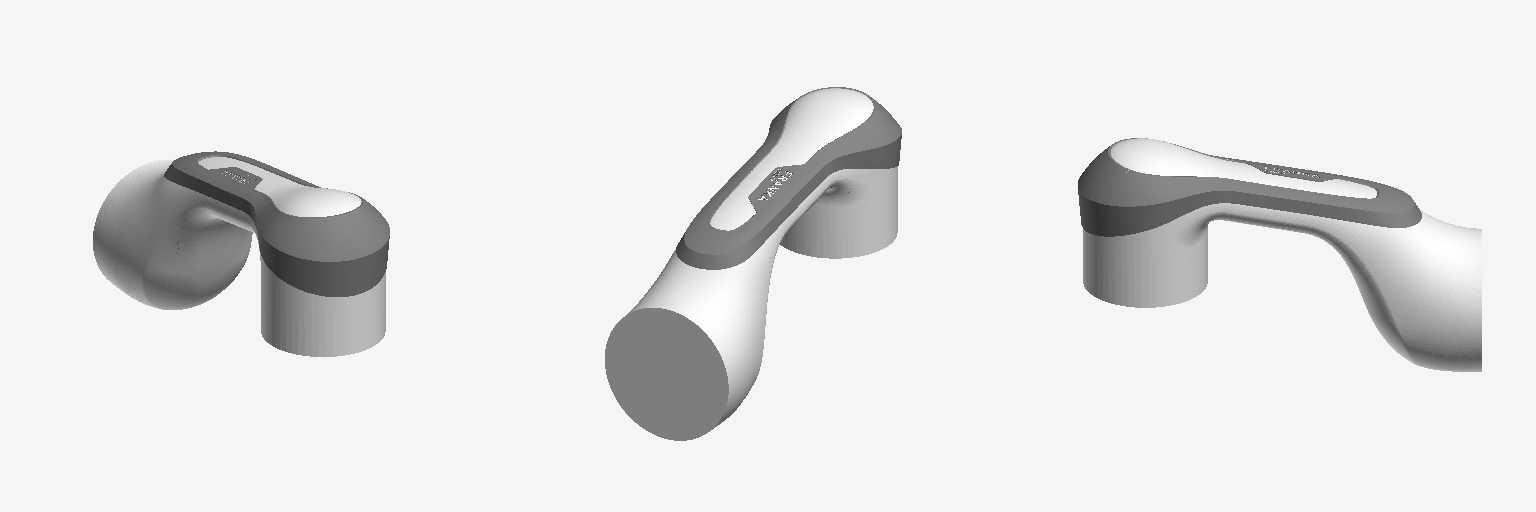
3 renders of one model, left to right at view 1: azimuth 30°, elevation 25°; view 2: azimuth 150°, elevation 25°; view 3: azimuth 270°, elevation 25°, orthographic.
Visible parts, largest first — view 1: node2; view 2: node2; view 3: node2.
Part boxes in pixels (x1,y1,x2,y2): node2: (93, 151, 389, 356); node2: (605, 87, 901, 440); node2: (1078, 138, 1481, 371).
Bounding box in the file's own units: 0.11 × 0.1849 × 0.3112.
Materials: 3 (1 with a texture image).